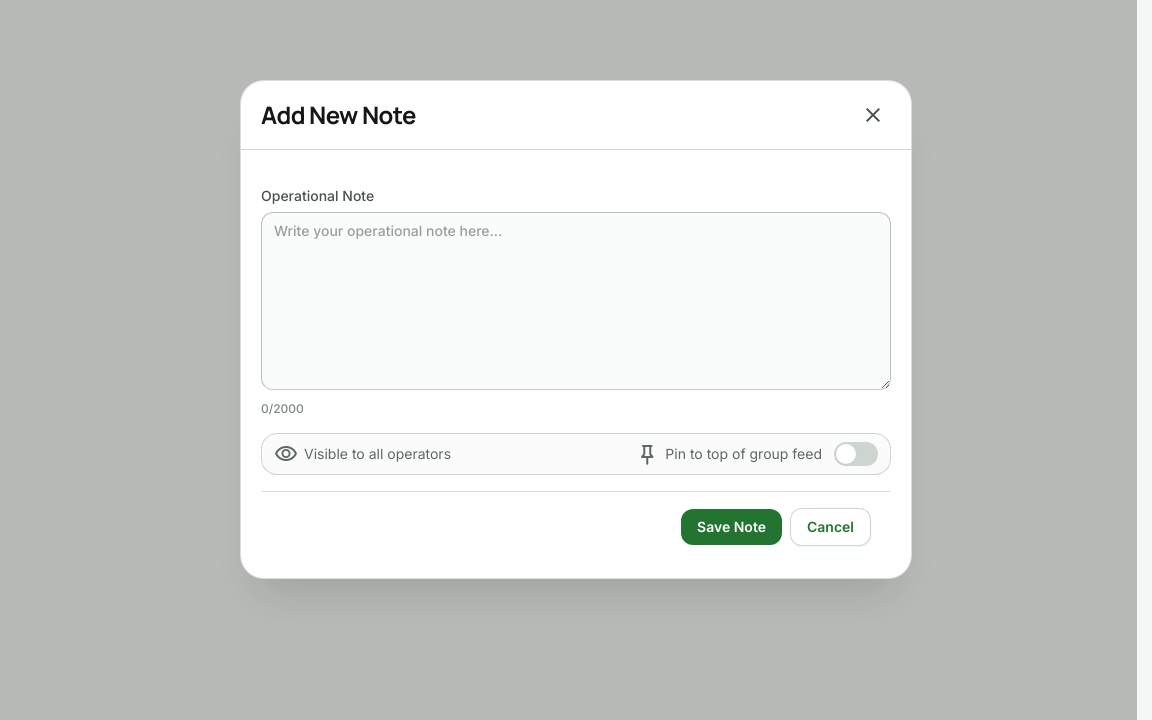
Scenario: NoteModal › validation › should show validation error when text is empty
The image size is (1152, 720).
Click the button "Save Note".
click(731, 527)  # box [681, 509, 782, 545]
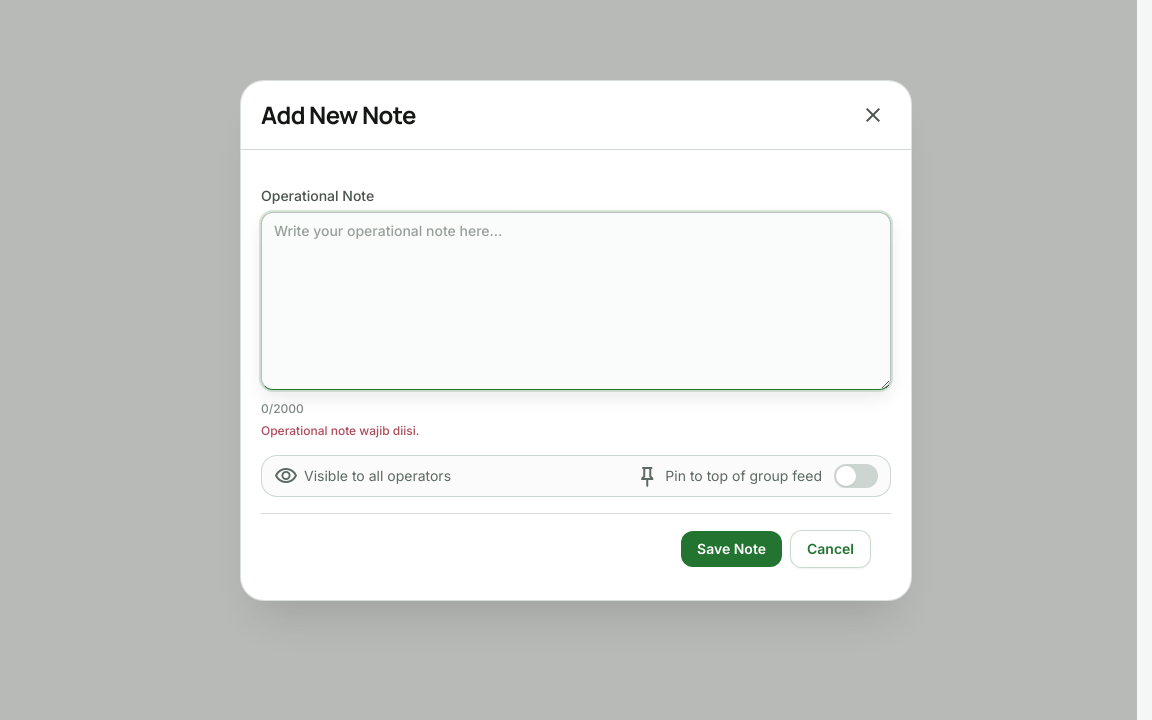
Check: the text "Operational note wajib diisi." is shown, box [261, 423, 419, 438]
